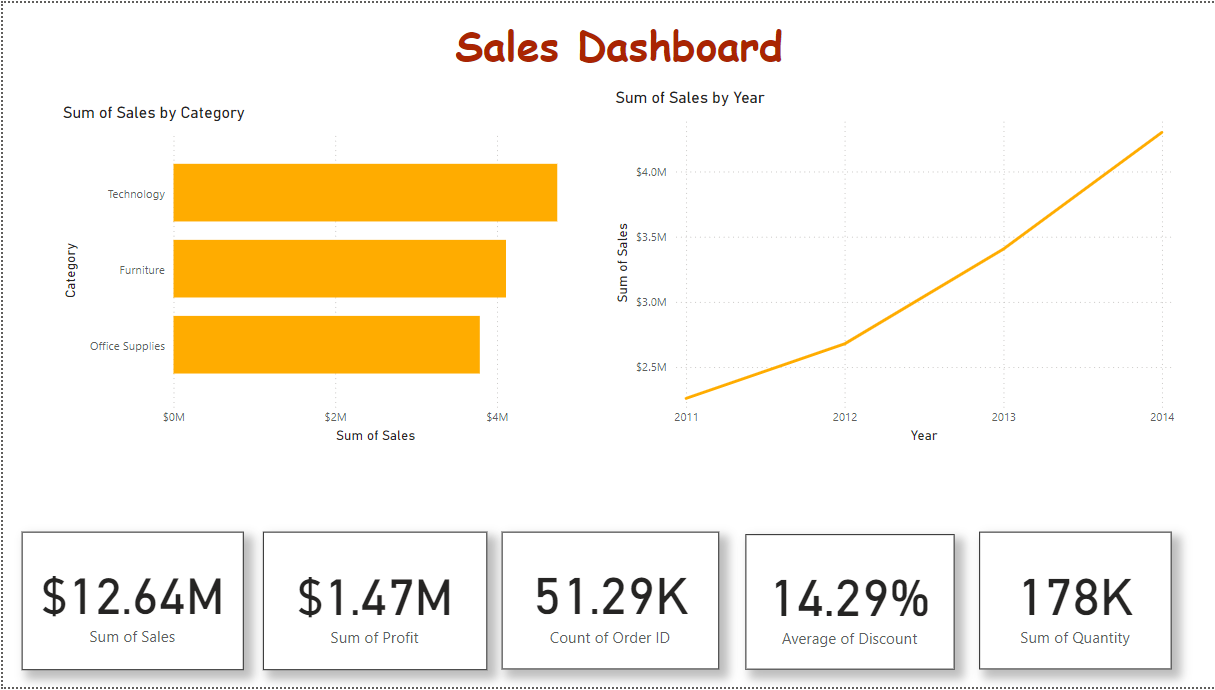

The page's visual inventory and layout, read from the dashboard file:
{"tool":"powerbi","page":{"name":"Page 1","canvas":[1280,720],"ordinal":0},"visuals":[{"type":"card","fields":{"Values":["Sum(Orders.Sales)"]},"box":[19.6,556.4,233.6,145.5],"z":0},{"type":"card","fields":{"Values":["Sum(Orders.Profit)"]},"box":[273.7,557.2,235.8,146],"z":1000},{"type":"card","fields":{"Values":["Avg(Orders.Discount)"]},"box":[781.6,559.2,219.7,142.1],"z":2000},{"type":"card","fields":{"Values":["Sum(Orders.Quantity)"]},"box":[1027.6,556.6,202.6,144.7],"z":3000},{"type":"clusteredBarChart","fields":{"Category":["Orders.Categories.Category","Orders.Categories.Sub-Category"],"Y":["Sum(Orders.Sales)"]},"box":[57.9,105.3,564.5,363.2],"z":4000},{"type":"lineChart","fields":{"Category":["Orders.Order Date.Variation.Date Hierarchy.Year","Orders.Order Date.Variation.Date Hierarchy.Quarter","Orders.Order Date.Variation.Date Hierarchy.Month","Orders.Order Date.Variation.Date Hierarchy.Day"],"Y":["Sum(Orders.Sales)"]},"box":[639.5,89.5,598.7,378.9],"z":5000},{"type":"card","fields":{"Values":["CountNonNull(Orders.Order ID)"]},"box":[524.9,557.2,228.8,144.6],"z":6000},{"type":"textbox","box":[391.2,8.8,515,70],"z":7000}]}

Visuals, with their boxes in screenshot pixels (x1, y1, x2, y2), scaled from the page's 1280x720 canvas onto the 1215x690 screenshot:
card - Sum(Orders.Sales): [19,533,240,673]
card - Sum(Orders.Profit): [260,534,484,674]
card - Avg(Orders.Discount): [742,536,950,672]
card - Sum(Orders.Quantity): [975,533,1168,672]
clusteredBarChart - Orders.Categories.Category x Orders.Categories.Sub-Category: [55,101,591,449]
lineChart - Orders.Order Date.Variation.Date Hierarchy.Year x Orders.Order Date.Variation.Date Hierarchy.Quarter: [607,86,1175,449]
card - CountNonNull(Orders.Order ID): [498,534,715,673]
textbox: [371,8,860,76]
